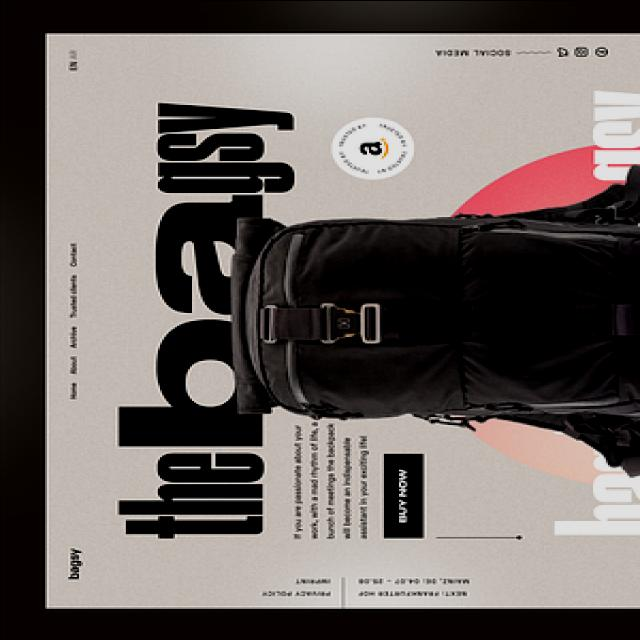backpack: (229, 159, 639, 481)
